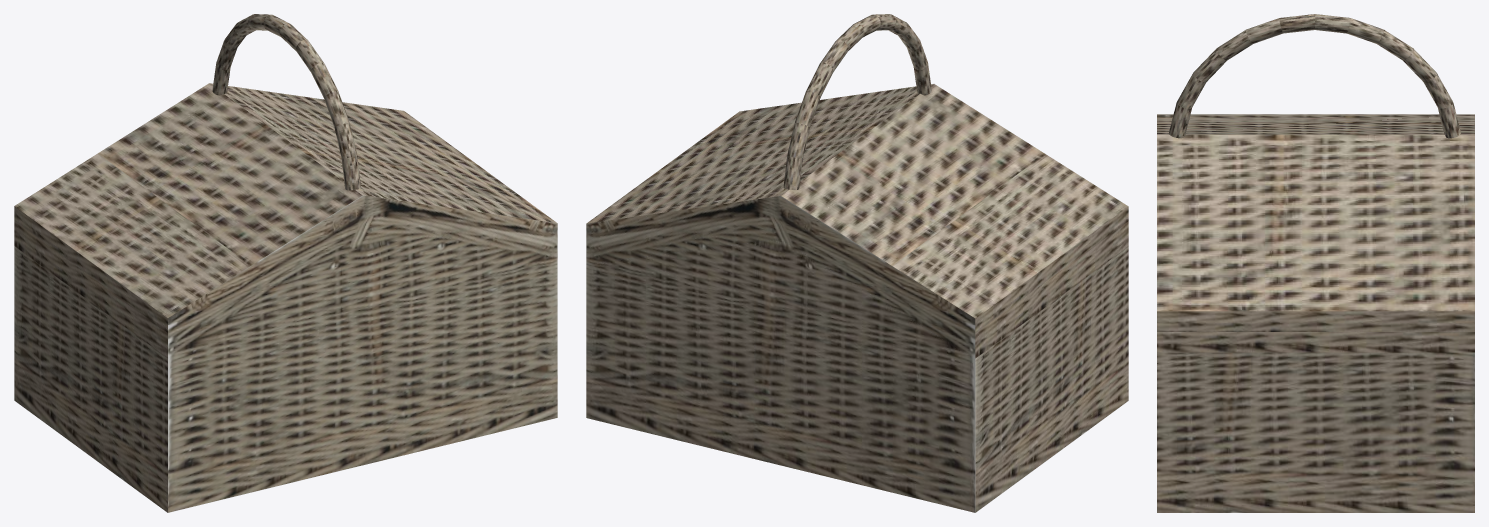
Rendered from Empezamos.fbx.
The picture shows the model from 3 angles, left to right: view 1: azimuth 30°, elevation 25°; view 2: azimuth 150°, elevation 25°; view 3: azimuth 270°, elevation 25°; orthographic projection. The views are drawn at different scales.
Parts seen in each view (by area): view 1: group_0.003, group_0.004, group_0.001, group_1; view 2: group_0.001, group_0.004, group_0, group_1; view 3: group_0.001, group_0.004, group_1.
Part boxes in pixels (x1=…): group_0.003: x1=168, y1=195, x2=557, y2=512; group_0.004: x1=15, y1=83, x2=557, y2=317; group_0.001: x1=14, y1=206, x2=167, y2=512; group_1: x1=212, y1=14, x2=360, y2=190; group_0.001: x1=586, y1=207, x2=1128, y2=512; group_0.004: x1=586, y1=84, x2=1128, y2=318; group_0: x1=586, y1=196, x2=975, y2=357; group_1: x1=783, y1=14, x2=931, y2=189; group_0.001: x1=1157, y1=311, x2=1474, y2=512; group_0.004: x1=1157, y1=114, x2=1474, y2=311; group_1: x1=1169, y1=14, x2=1460, y2=138.
Size of the model in its own units: 0.44 by 0.4164 by 0.3.
